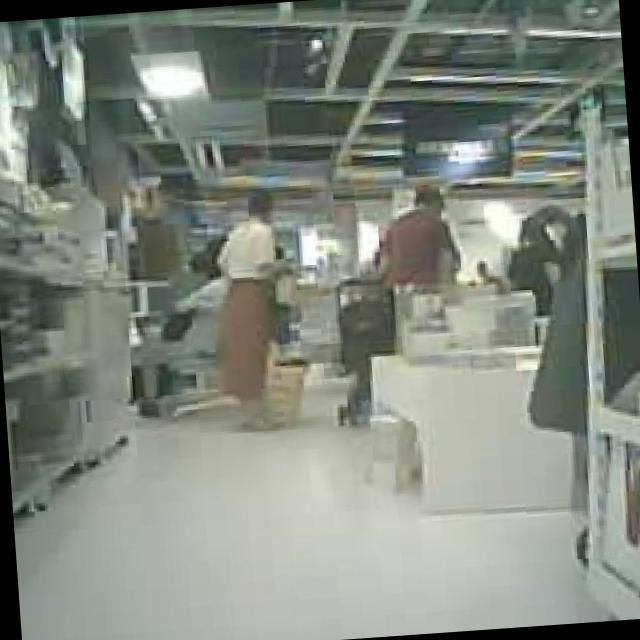person: (206, 192, 308, 429), (372, 182, 465, 295)
